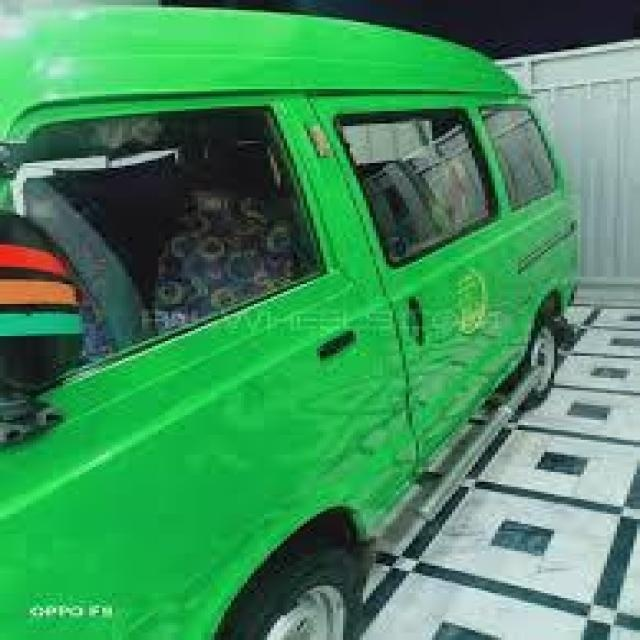Van: (0, 0, 581, 640)
